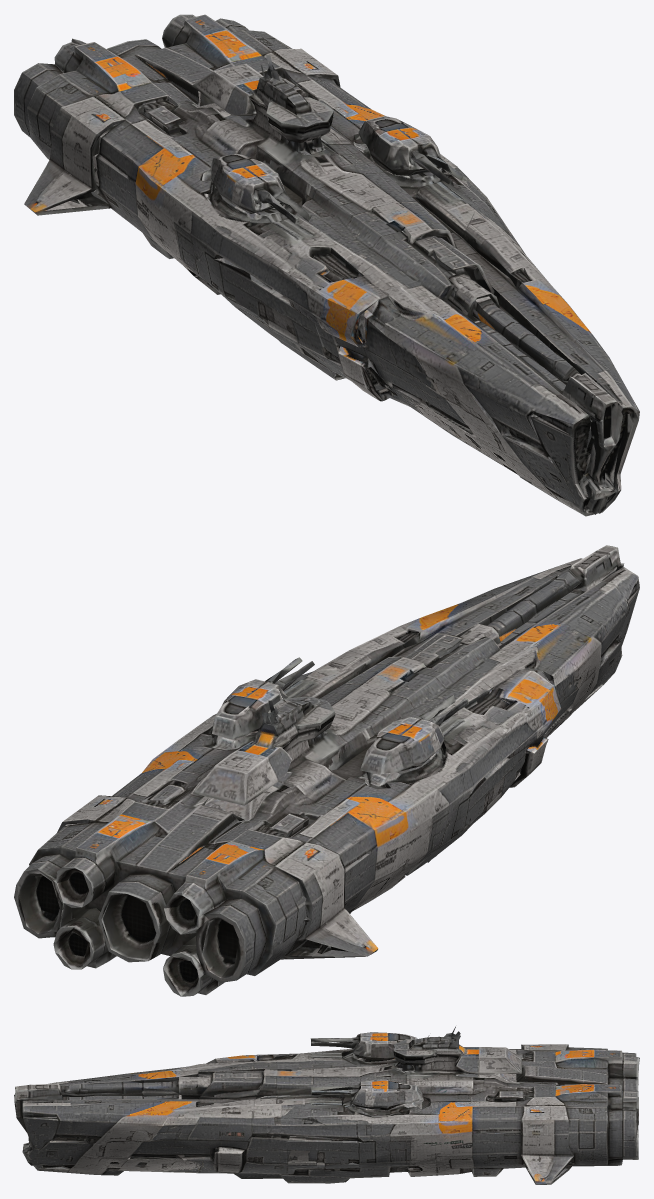
Rendered from battleship-high.glb.
3 views of the same model, one above another, from view 1: azimuth 30°, elevation 25°; view 2: azimuth 150°, elevation 25°; view 3: azimuth 270°, elevation 25° (orthographic). The views are drawn at different scales.
Visible parts, largest first — view 1: Low; view 2: Low; view 3: Low.
Boxes of the visible parts, x1,y1,x2,y2 form: Low: (14, 14, 639, 516); Low: (14, 545, 639, 996); Low: (14, 1026, 639, 1184).
Size of the model in its own units: 0.7823 by 0.5011 by 1.93.
1 material, 1 textured.
